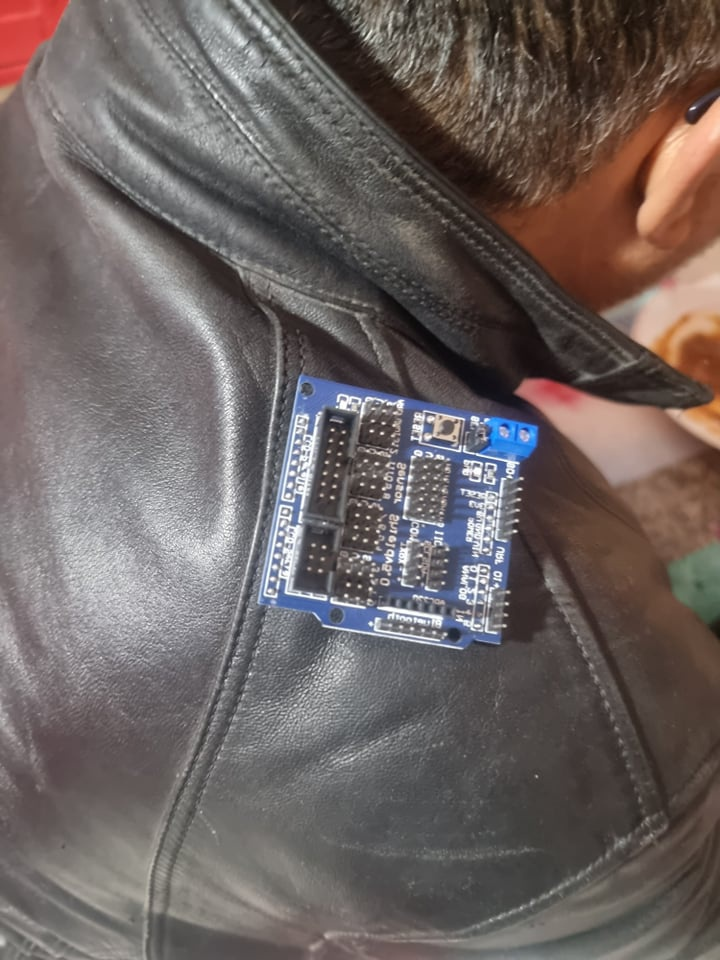5V EXPANSION: (254, 370, 541, 650)
